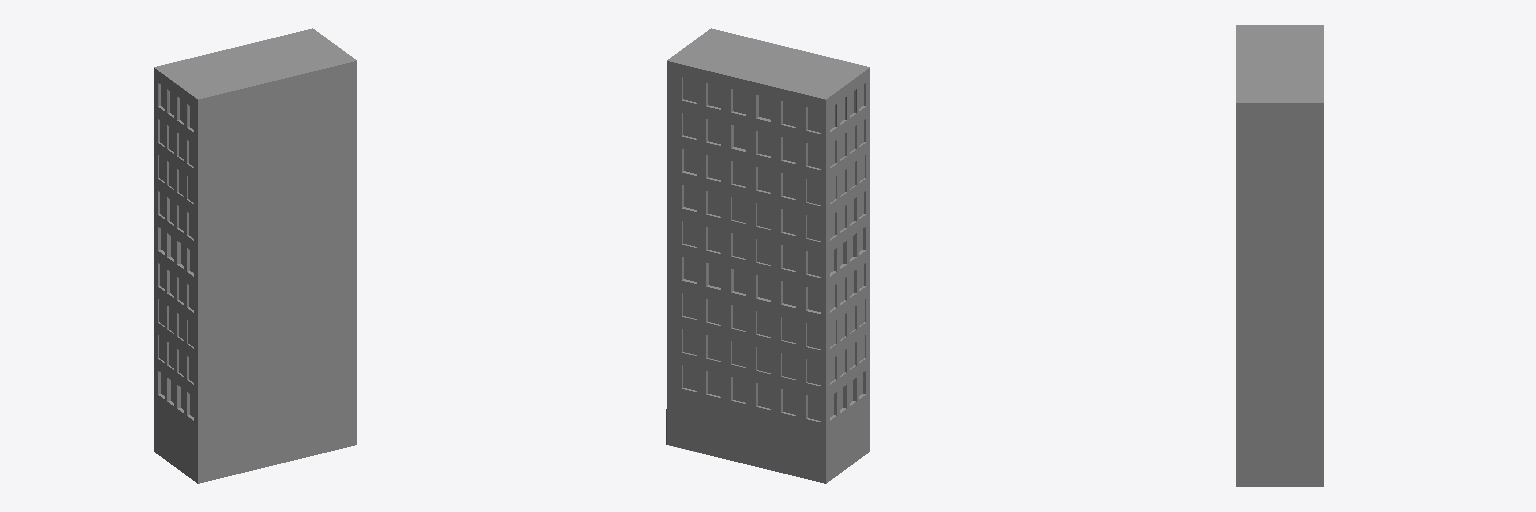
The model's file is towerBlock1.obj.
3 renders of one model, left to right at view 1: azimuth 30°, elevation 25°; view 2: azimuth 150°, elevation 25°; view 3: azimuth 270°, elevation 25°, orthographic.
Parts seen in each view (by area): view 1: Cube; view 2: Cube; view 3: Cube.
Boxes of the visible parts, <box> form: Cube: <box>154,28,356,483</box>; Cube: <box>666,28,869,483</box>; Cube: <box>1236,25,1323,486</box>.
Bounding box in the file's own units: 6.71 × 15.36 × 3.21.